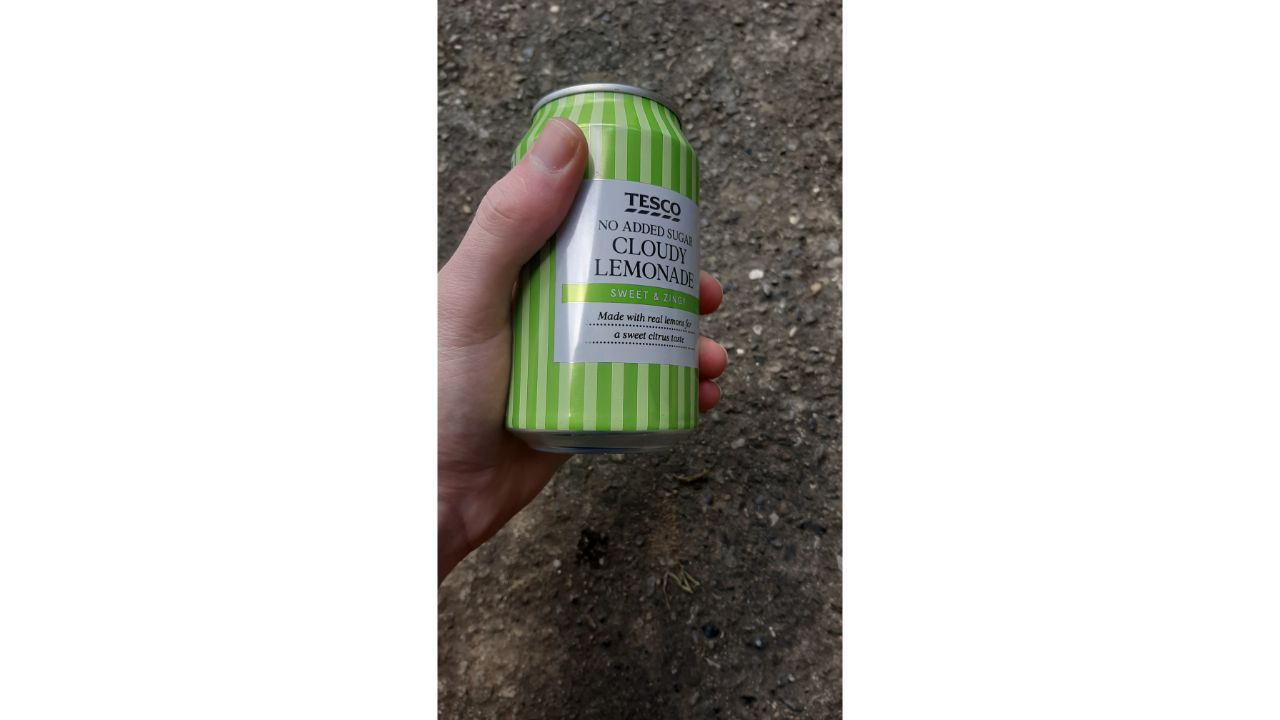Can: (496, 70, 714, 474)
